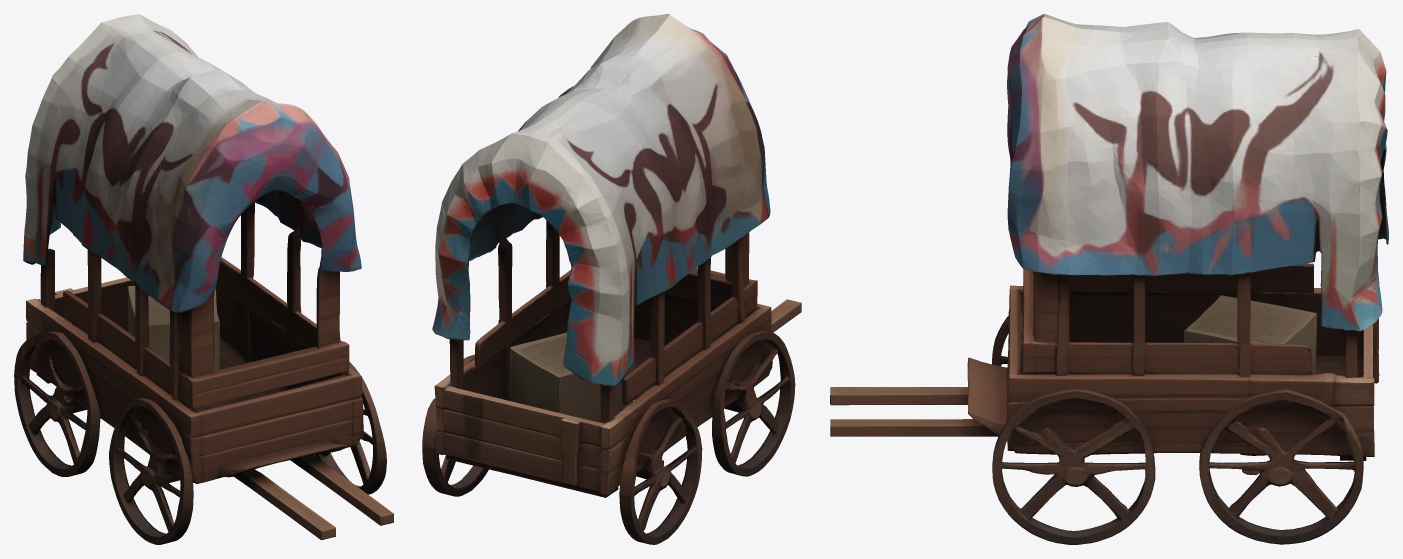
File: voxhammer_t01.glb
The picture shows the model from 3 angles, left to right: view 1: azimuth 30°, elevation 25°; view 2: azimuth 150°, elevation 25°; view 3: azimuth 270°, elevation 25°; orthographic projection. The views are drawn at different scales.
Visible parts, largest first — view 1: geometry_0; view 2: geometry_0; view 3: geometry_0.
Boxes of the visible parts, x1,y1,x2,y2 form: geometry_0: (14, 14, 393, 544); geometry_0: (422, 14, 801, 544); geometry_0: (830, 14, 1388, 544).
Bounding box in the file's own units: 0.9637 × 1.86 × 2.
1 material, 1 textured.
